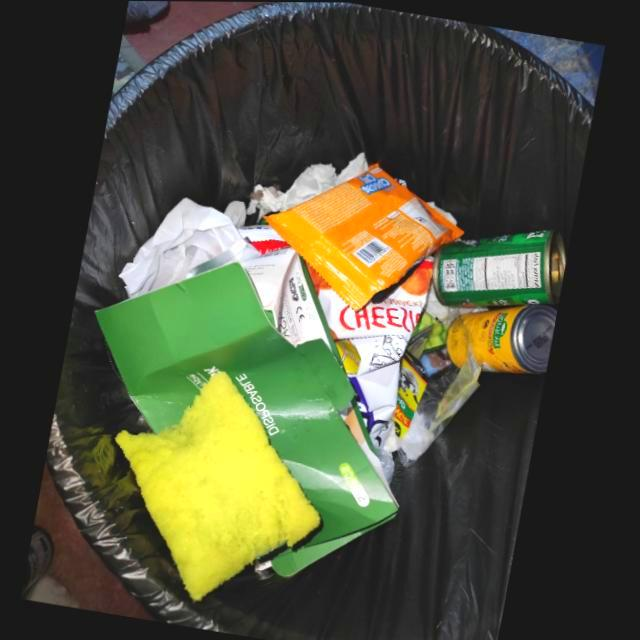aluminum: (434, 228, 567, 308), (448, 303, 560, 373)
cardboard: (96, 245, 402, 577)
food_wrapper: (265, 163, 467, 311), (302, 255, 434, 446), (241, 225, 292, 254)
paper: (120, 198, 250, 298)
